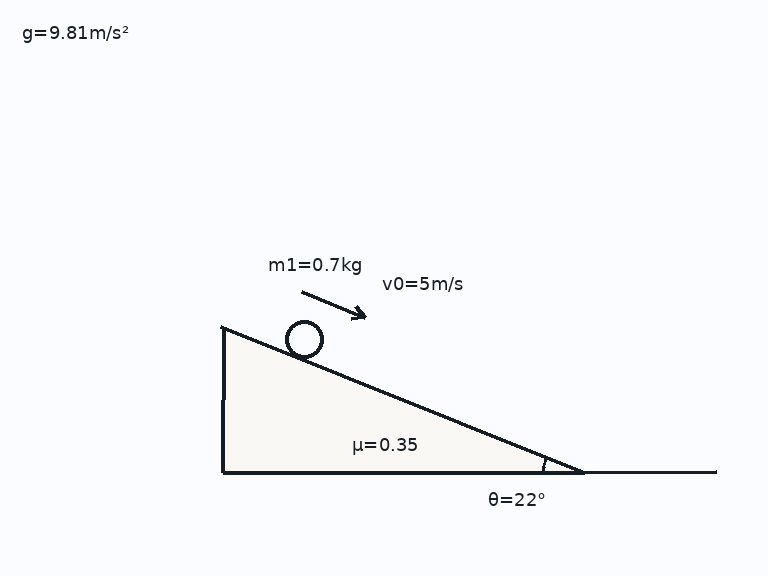ball: (283, 318, 325, 360)
ramp: (220, 324, 585, 474)
